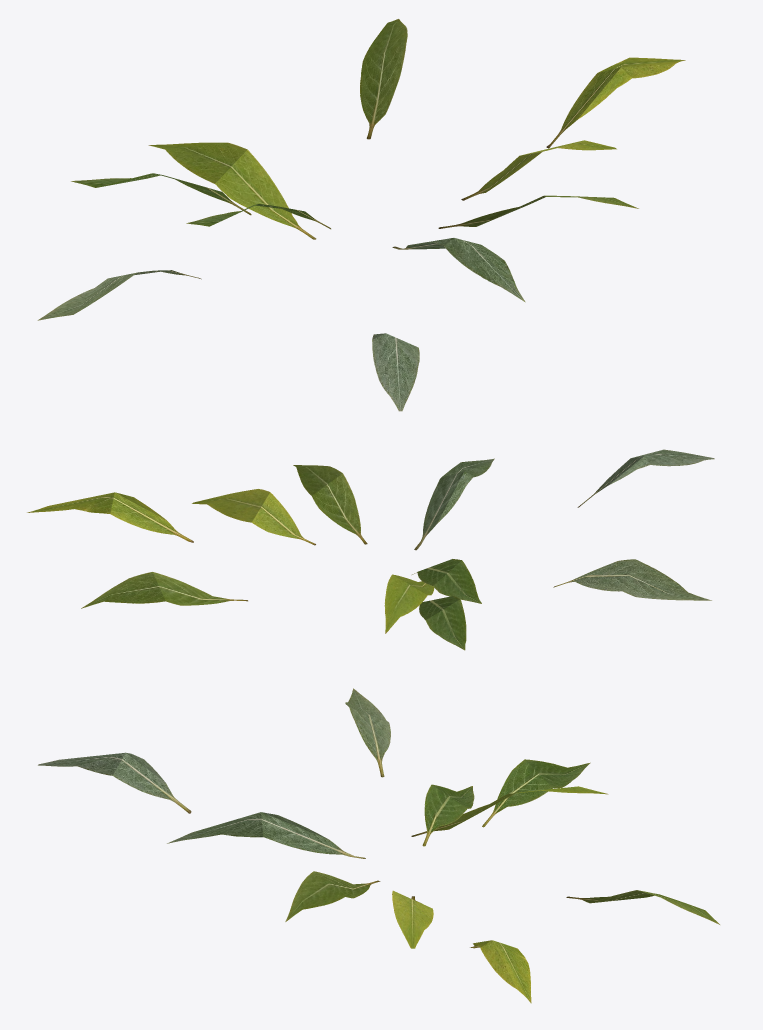
The model's file is groundcover_02.glb.
3 renders of one model, top to bottom at view 1: azimuth 30°, elevation 25°; view 2: azimuth 150°, elevation 25°; view 3: azimuth 270°, elevation 25°, orthographic. The views are drawn at different scales.
Visible parts, largest first — view 1: groundcover_02; view 2: groundcover_02; view 3: groundcover_02.
Part boxes in pixels (left/top/right/bottom): groundcover_02: left=37, top=19, right=685, bottom=411; groundcover_02: left=27, top=449, right=714, bottom=650; groundcover_02: left=38, top=688, right=719, bottom=1003.
Size of the model in its own units: 1.36 by 0.0896 by 1.27.
1 material, 1 textured.
